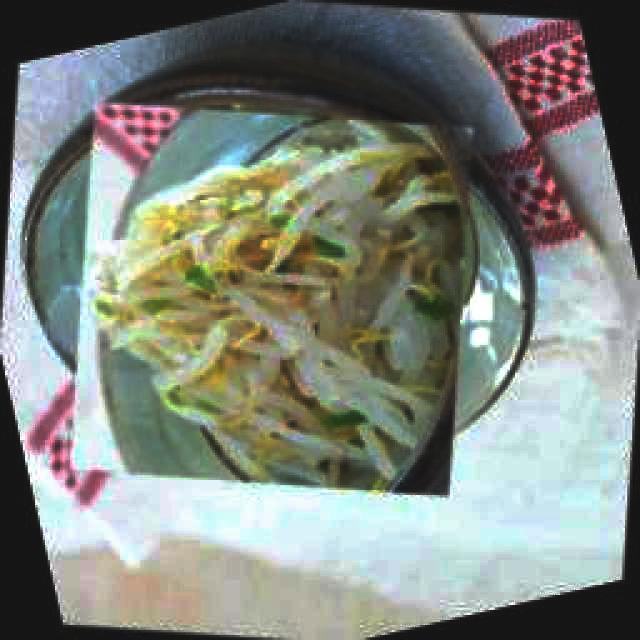mung_bean_sprouts: (88, 126, 452, 477)
